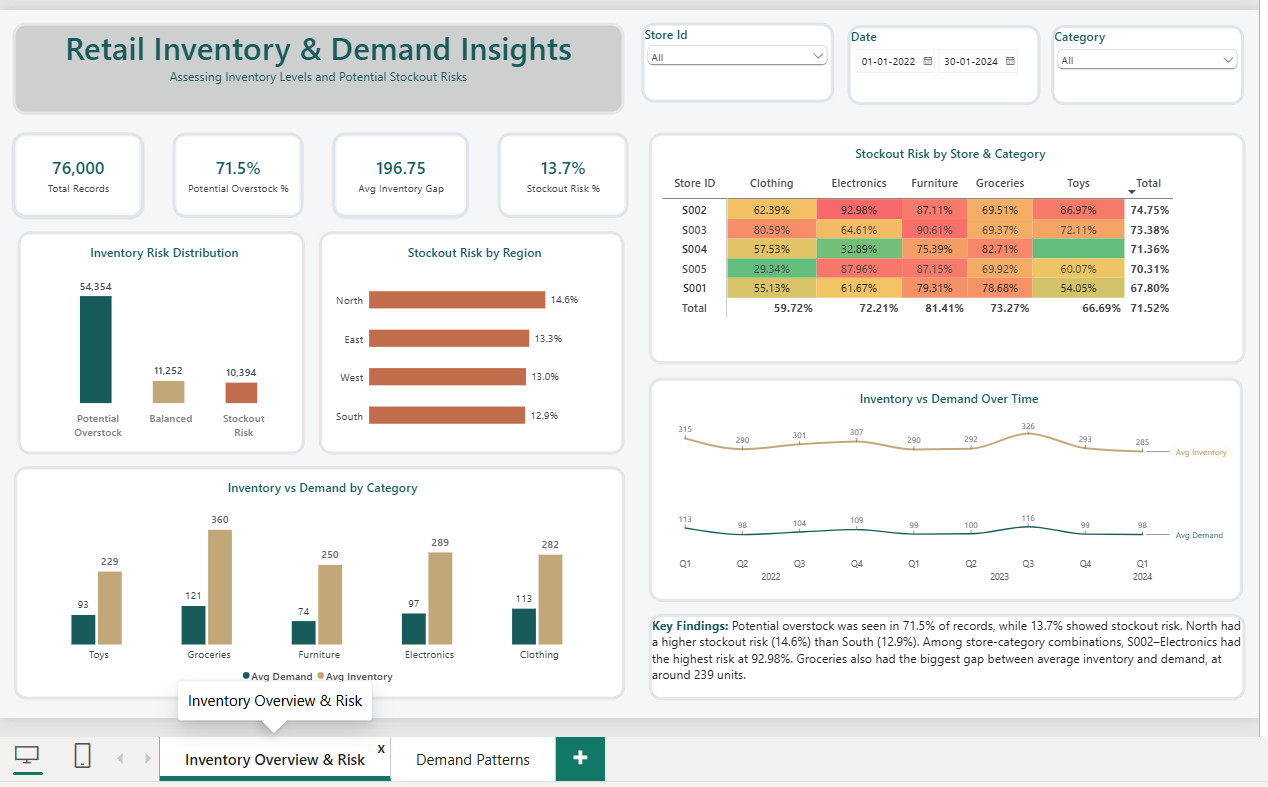

What the dashboard file says about the page in this screenshot:
{"tool":"powerbi","page":{"name":"Inventory Overview & Risk","canvas":[1920,1080],"ordinal":0},"visuals":[{"type":"cardVisual","fields":{"Data":["#Measures.Total Risk Records"]},"box":[19.9,186.4,200,130],"z":0},{"type":"cardVisual","fields":{"Data":["#Measures.Stockout Risk %"]},"box":[758.2,186.4,200,130],"z":5},{"type":"cardVisual","fields":{"Data":["#Measures.Potential Overstock %"]},"box":[263.4,186.4,200,130],"z":6},{"type":"columnChart","title":"Inventory Risk Distribution","fields":{"Category":["demand_forecasting.Inventory Risk"],"Y":["#Measures.Total Records"]},"box":[25.8,337.3,438.6,340.9],"z":7},{"type":"clusteredColumnChart","title":"Inventory vs Demand by Category","fields":{"Category":["demand_forecasting.Category"],"Y":["#Measures.Avg Demand","#Measures.Avg Inventory"]},"box":[20.3,696.6,932.5,355.7],"z":8},{"type":"barChart","title":"Stockout Risk by Region","fields":{"Category":["demand_forecasting.Region"],"Y":["#Measures.Stockout Risk %"]},"box":[486.5,337.3,466.3,340.9],"z":12},{"type":"pivotTable","title":"Stockout Risk by Store & Category","fields":{"Columns":["demand_forecasting.Category"],"Rows":["demand_forecasting.Store ID"],"Values":["#Measures.Potential Overstock %"]},"box":[989.7,186.1,910.4,353.9],"z":13},{"type":"lineChart","title":"Inventory vs Demand Over Time","fields":{"Category":["Calendar.Year Hierarchy.Year","Calendar.Quarter","Calendar.Month","Calendar.Date"],"Y":["#Measures.Avg Inventory","#Measures.Avg Demand"]},"box":[989.7,560.3,906.7,342.8],"z":14},{"type":"cardVisual","fields":{"Data":["#Measures.Avg Inventory Gap"]},"box":[506.8,186.4,208,130],"z":15},{"type":"slicer","title":"Store Id","fields":{"Values":["demand_forecasting.Store ID"]},"box":[977.2,19.9,294,122],"z":16},{"type":"slicer","title":"Date","fields":{"Values":["Calendar.Date"]},"box":[1292.1,23.5,294,122],"z":17},{"type":"slicer","title":"Category","fields":{"Values":["demand_forecasting.Category"]},"box":[1603.4,23.5,294,122],"z":18},{"type":"textbox","box":[19.9,19.9,933.8,141.2],"z":19},{"type":"textbox","box":[989.9,921.1,910.3,132.1],"z":20}]}

Visuals, with their boxes on the page's 1920x1080 design canvas (x1, y1, x2, y2). These are canvas units, not pixel positions in the 1268x787 screenshot, which may show the page scaled, cropped or inside an application window:
cardVisual - #Measures.Total Risk Records: region(20, 186, 220, 316)
cardVisual - #Measures.Stockout Risk %: region(758, 186, 958, 316)
cardVisual - #Measures.Potential Overstock %: region(263, 186, 463, 316)
"Inventory Risk Distribution" columnChart: region(26, 337, 464, 678)
"Inventory vs Demand by Category" clusteredColumnChart: region(20, 697, 953, 1052)
"Stockout Risk by Region" barChart: region(486, 337, 953, 678)
"Stockout Risk by Store & Category" pivotTable: region(990, 186, 1900, 540)
"Inventory vs Demand Over Time" lineChart: region(990, 560, 1896, 903)
cardVisual - #Measures.Avg Inventory Gap: region(507, 186, 715, 316)
"Store Id" slicer: region(977, 20, 1271, 142)
"Date" slicer: region(1292, 24, 1586, 146)
"Category" slicer: region(1603, 24, 1897, 146)
textbox: region(20, 20, 954, 161)
textbox: region(990, 921, 1900, 1053)
